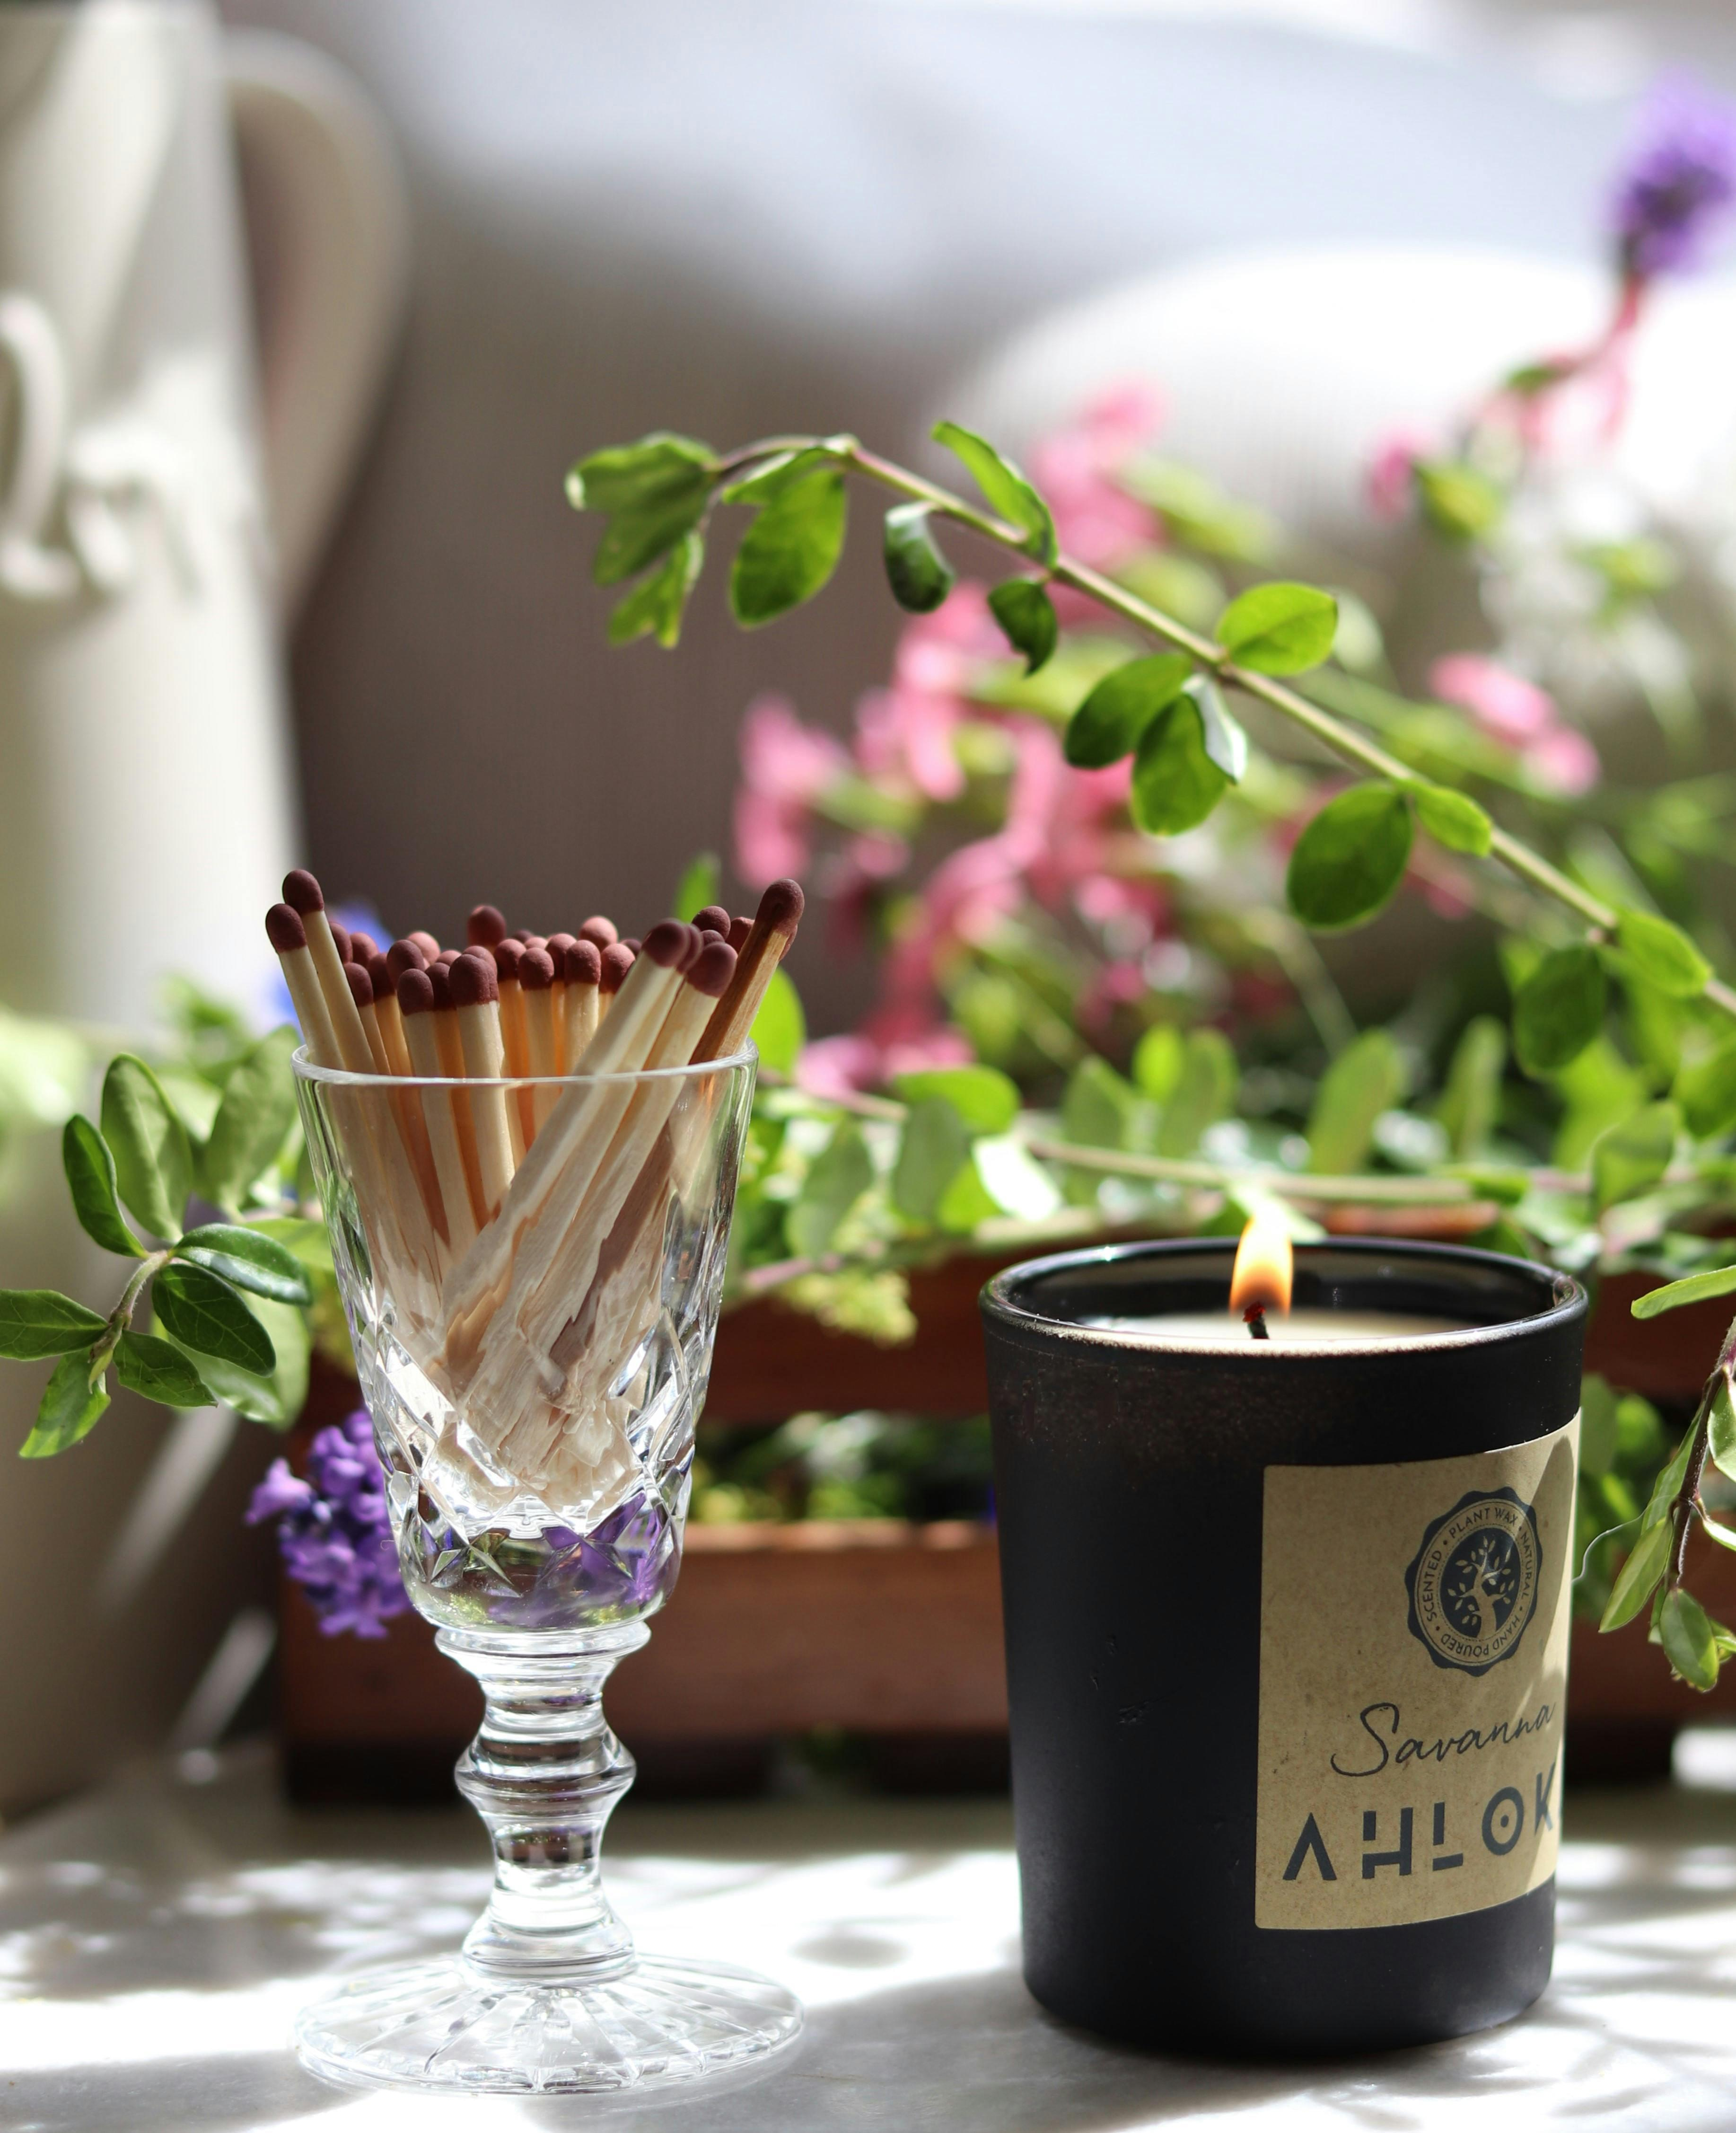Fire: (1221, 1194, 1323, 1320)
